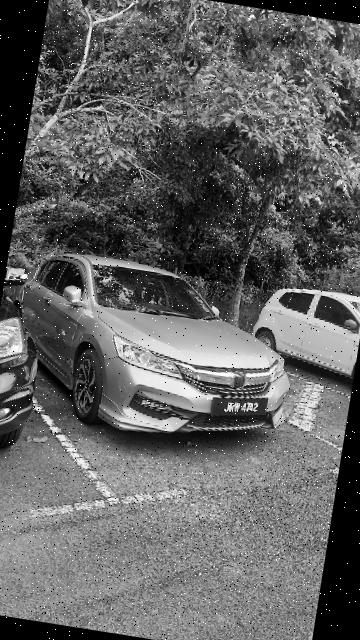License_Plate: (207, 386, 269, 424)
car: (1, 241, 311, 460), (1, 248, 53, 460), (256, 279, 360, 381)
